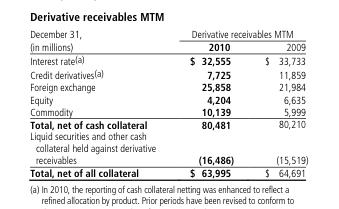table: (29, 29, 307, 178)
table column: (29, 29, 172, 178), (172, 29, 248, 178), (248, 29, 307, 178)
table column header: (29, 29, 307, 53)
table row: (29, 130, 307, 166), (29, 53, 307, 67), (29, 67, 307, 81), (29, 40, 307, 53), (29, 105, 307, 118), (29, 81, 307, 93), (29, 93, 307, 105), (29, 118, 307, 130), (29, 166, 307, 178), (29, 29, 307, 40)
table spanning cell: (29, 29, 172, 53), (172, 29, 307, 40)
